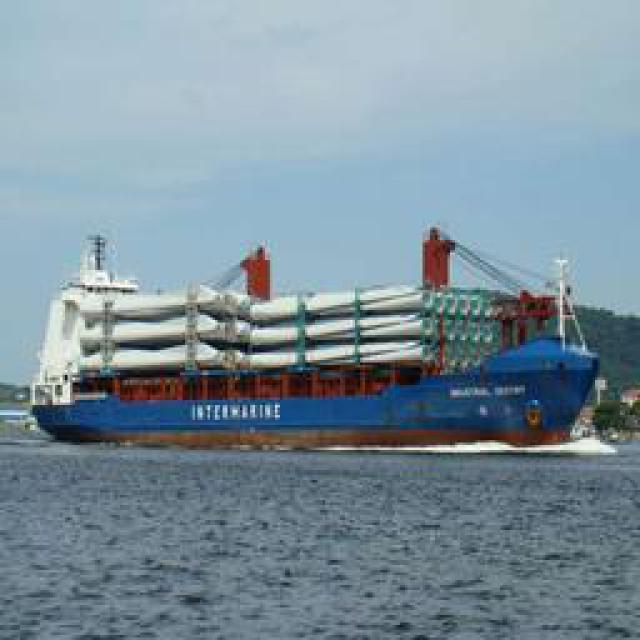Ship: (44, 237, 597, 450)
